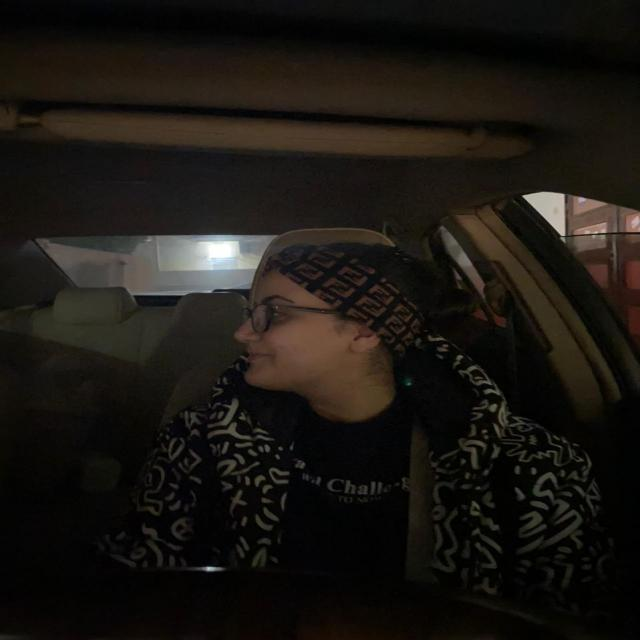LeftRight: (235, 230, 404, 401)
